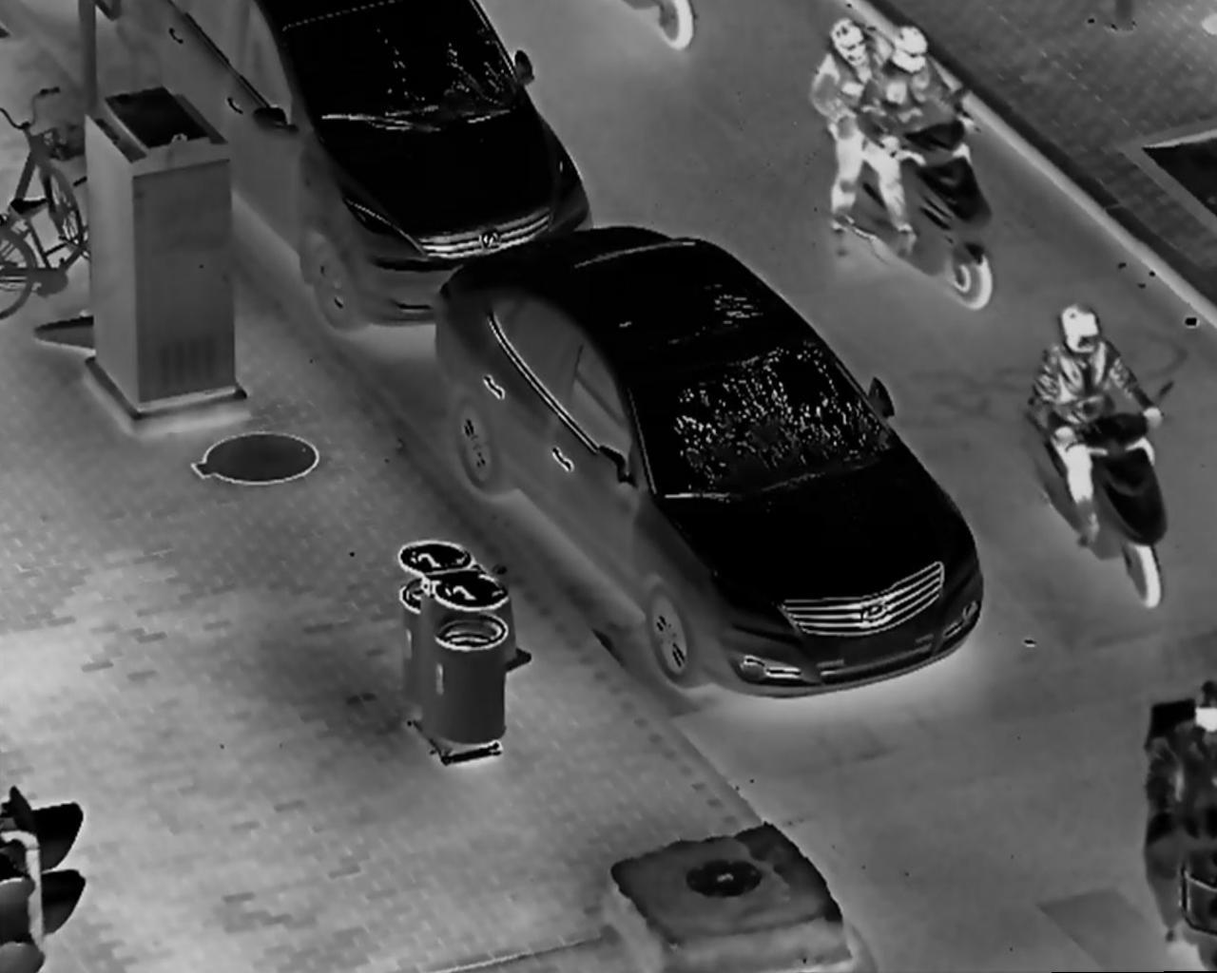person: (1027, 293, 1169, 557), (860, 26, 979, 257), (803, 15, 902, 265), (1143, 674, 1217, 946)
